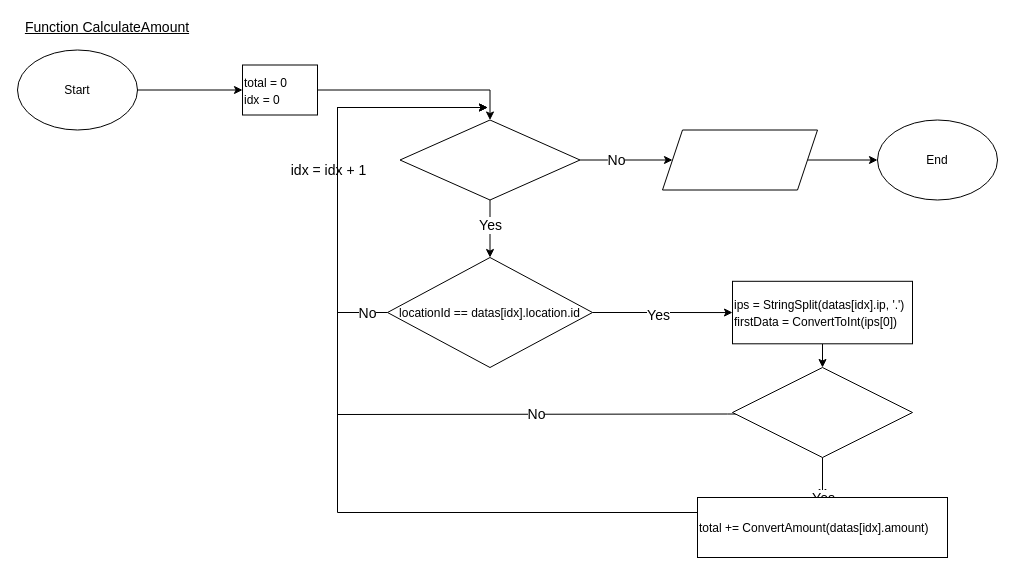
Some shapes in this 1015 by 575 pixel diagram are drawn without their labels. Here are the shapes that lost their labels. From the top down, the box of each, then its label:
(399, 119, 580, 200): idx < length of datas
(662, 129, 818, 190): return total
(732, 366, 912, 458): firstData >= netStart and firstData <= netEnd
